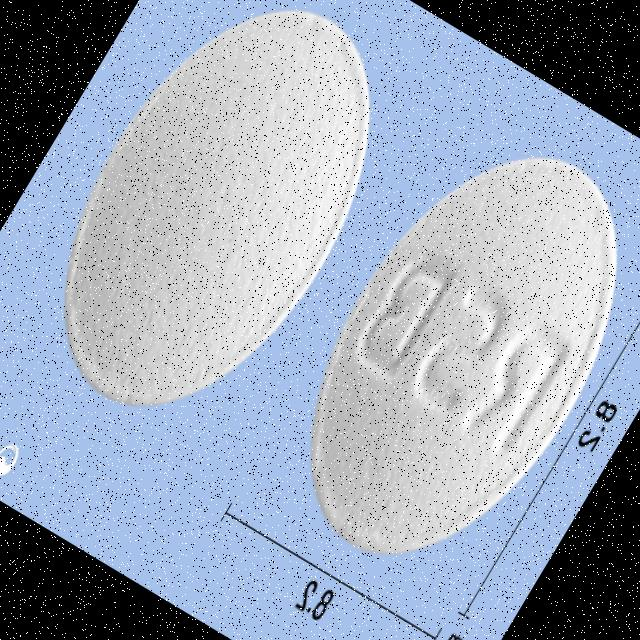Loxavit: (246, 103, 640, 607), (3, 0, 433, 454)
